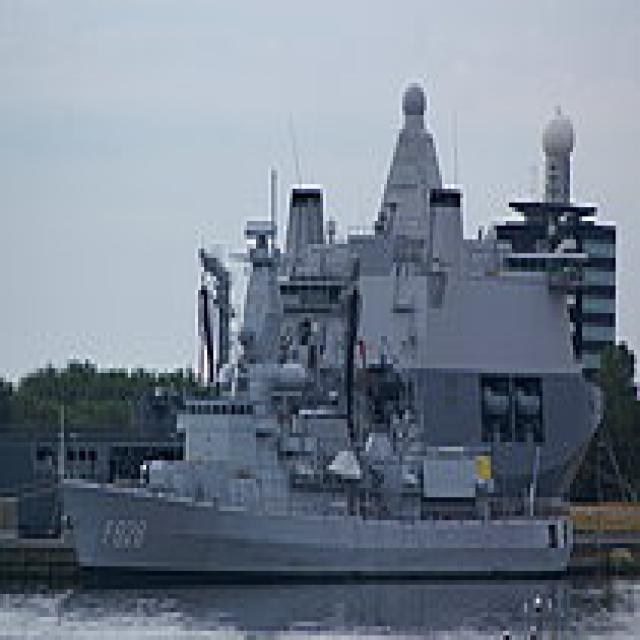Warship: (46, 281, 576, 585)
